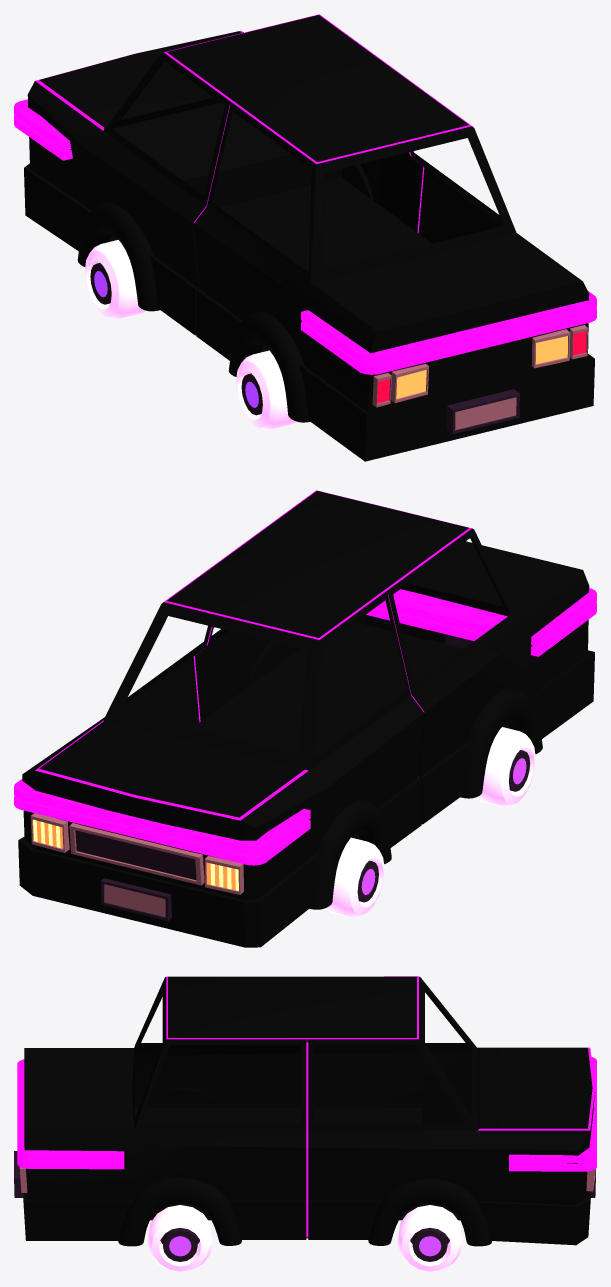
The model's file is car_2.fbx.
3 views of the same model, one above another, from view 1: azimuth 30°, elevation 25°; view 2: azimuth 150°, elevation 25°; view 3: azimuth 270°, elevation 25° (orthographic). The views are drawn at different scales.
Visible parts, largest first — view 1: Cube.074, Cube.075, Cube.083, Cylinder.015, Cube.080, Cube.081, Cube.079, Cube.082; view 2: Cube.074, Cube.075, Cube.079, Cylinder.015, Cube.083, Cube.077, Cube.078, Cube.076; view 3: Cube.074, Cube.075, Cylinder.015, Cube.083, Cube.079.
Boxes of the visible parts, x1,y1,x2,y2 form: Cube.074: (24,14,594,461); Cube.075: (77,164,372,422); Cube.083: (301,291,596,374); Cylinder.015: (85,240,296,430); Cube.080: (390,329,570,403); Cube.081: (446,389,519,433); Cube.079: (14,99,72,160); Cube.082: (372,325,587,407); Cube.074: (18,490,594,947); Cube.075: (247,641,542,909); Cube.079: (14,779,310,865); Cylinder.015: (324,727,535,918); Cube.083: (366,588,596,656); Cube.077: (69,823,204,885); Cube.078: (30,813,243,894); Cube.076: (101,878,171,920); Cube.074: (23,976,594,1245); Cube.075: (118,1087,491,1246); Cylinder.015: (148,1205,462,1272); Cube.083: (17,1059,124,1169); Cube.079: (509,1056,596,1171).
Bounding box in the file's own units: 222 × 203 × 500.
